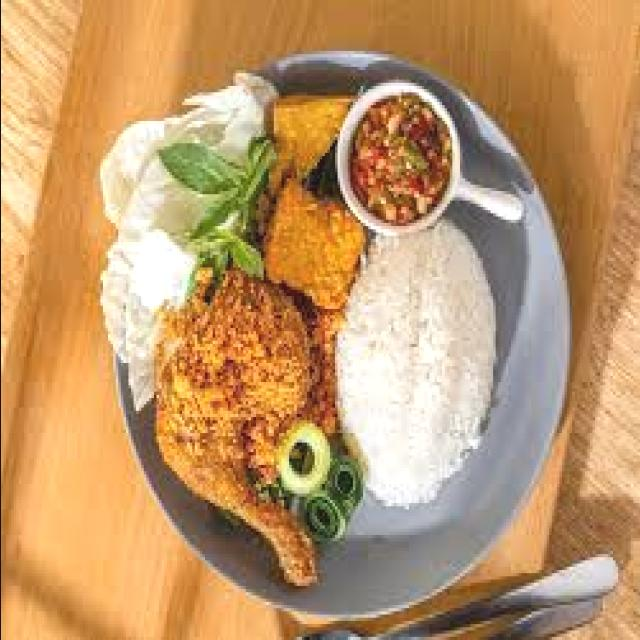ayam goreng: (153, 267, 316, 583)
nasi: (334, 217, 497, 509)
